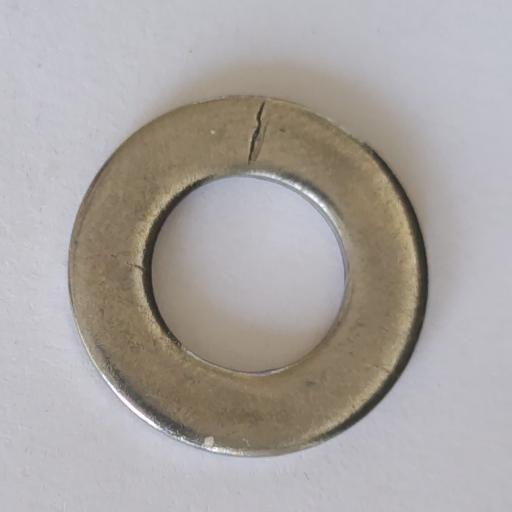scratch: (248, 101, 269, 164)
